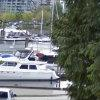Boat: (1, 41, 69, 90)
